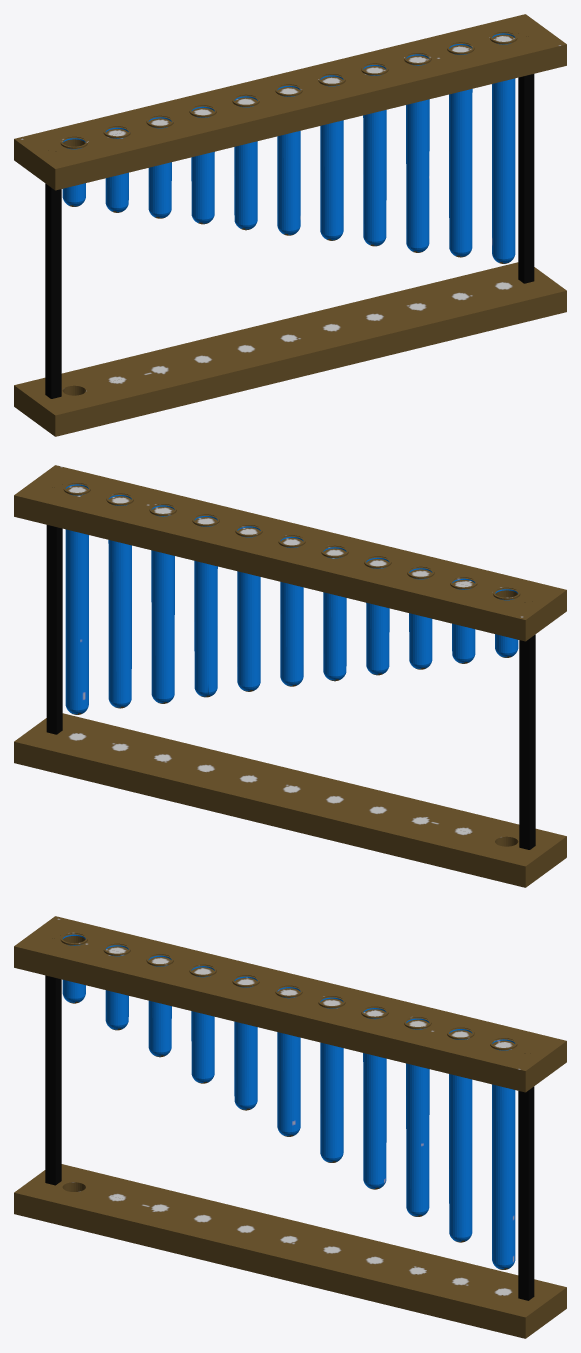
Rendered from soporte_tubos.obj.
3 views of the same model, one above another, from view 1: azimuth 30°, elevation 25°; view 2: azimuth 150°, elevation 25°; view 3: azimuth 330°, elevation 25° (orthographic).
Parts seen in each view (by area): view 1: soporte_tubos; view 2: soporte_tubos; view 3: soporte_tubos.
Part boxes in pixels (box(x1,y1,x2,y2)): soporte_tubos: box(14, 14, 566, 436); soporte_tubos: box(14, 465, 566, 887); soporte_tubos: box(14, 916, 566, 1338).
Size of the model in its own units: 1 by 0.5051 by 0.14.
